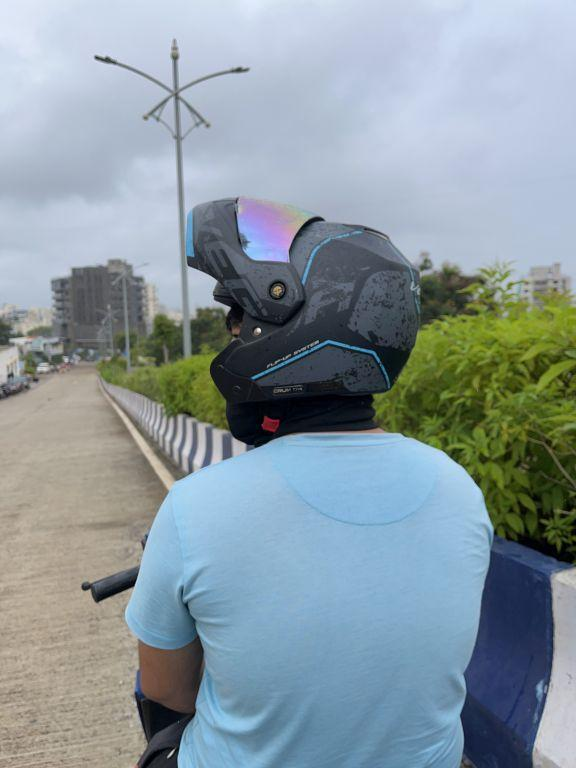helmet: (174, 179, 432, 429)
